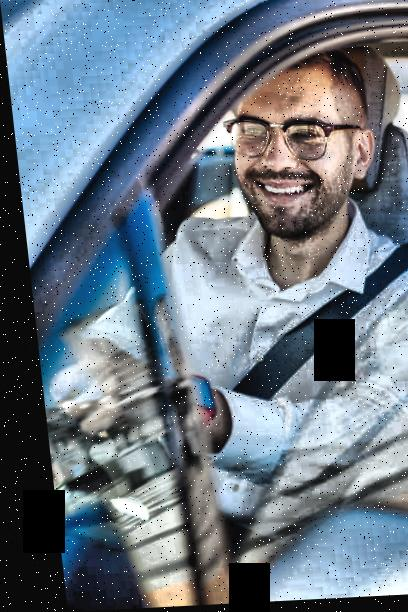seatbelt: (148, 232, 408, 428)
